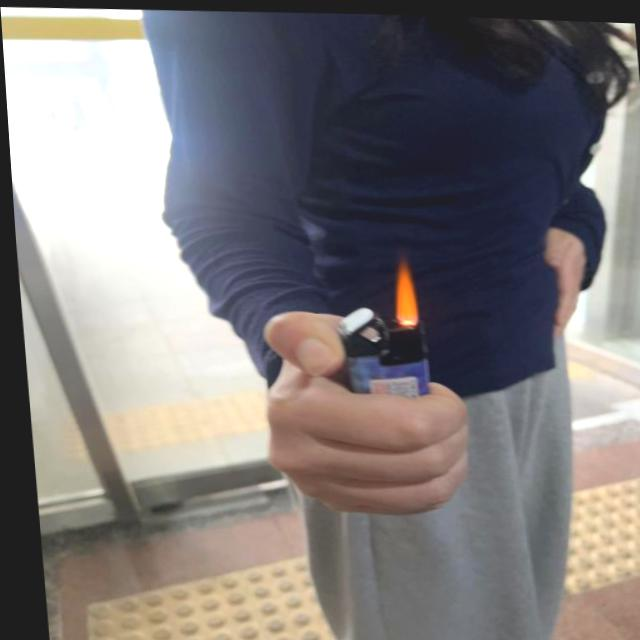Fire: (383, 252, 415, 321)
